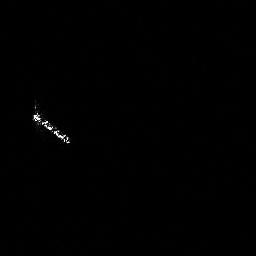ship: (30, 99, 72, 146)
